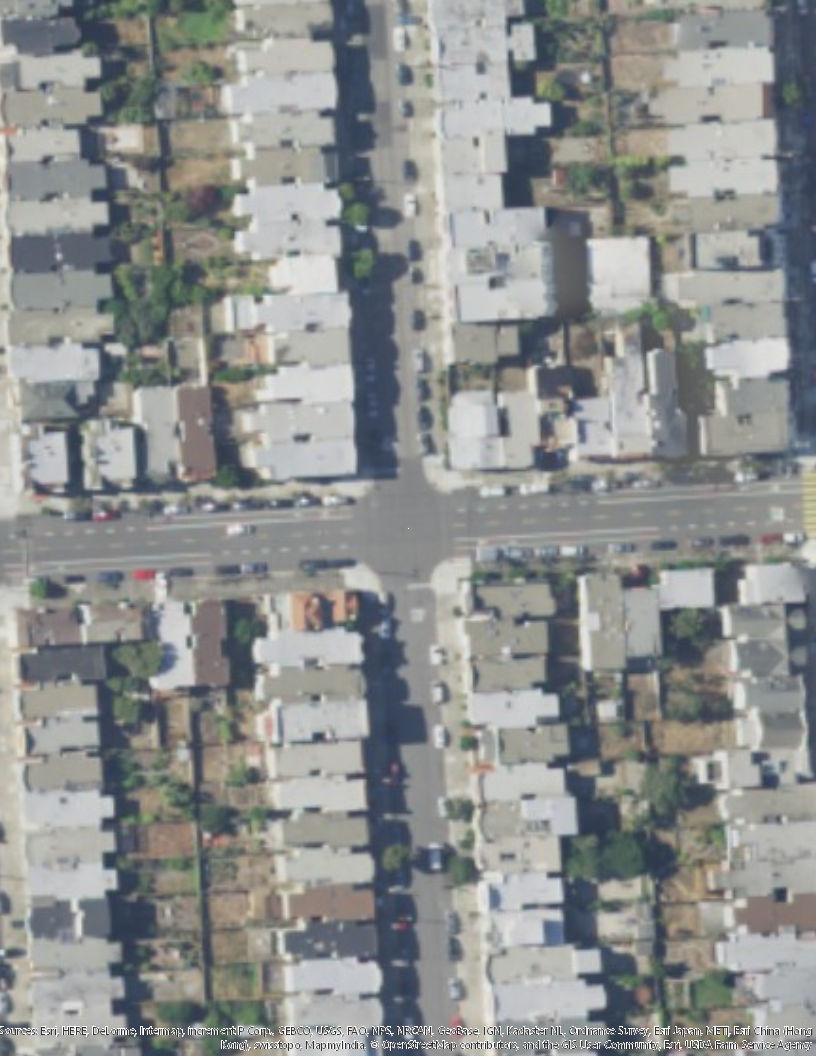zebracross: (803, 472, 816, 541)
